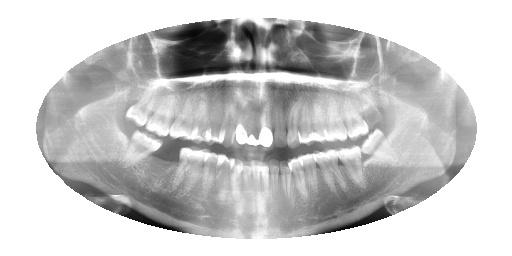i10healthy: (226, 155, 244, 222)
i11healthy: (211, 151, 234, 211)
i12healthy: (198, 147, 221, 207)
i13healthy: (171, 143, 209, 209)
i14loss: (151, 137, 183, 191)
i15healthy: (117, 125, 167, 181)
i16loss: (110, 116, 138, 155)
i1healthy: (356, 124, 399, 169)
i2healthy: (334, 142, 370, 192)
i3healthy: (310, 143, 348, 198)
i4healthy: (297, 150, 321, 202)
i5healthy: (286, 151, 311, 205)
i6healthy: (275, 153, 295, 208)
i7healthy: (268, 153, 281, 209)
i8healthy: (253, 152, 274, 213)
i9healthy: (239, 155, 258, 220)
u10healthy: (233, 98, 249, 149)
u11healthy: (219, 91, 237, 151)
u12healthy: (204, 100, 228, 150)
u13healthy: (188, 89, 212, 146)
u14healthy: (166, 87, 196, 143)
u15healthy: (147, 87, 177, 141)
u16healthy: (124, 79, 156, 132)
u1loss: (354, 92, 384, 132)
u2healthy: (339, 94, 371, 145)
u3healthy: (324, 92, 348, 145)
u4healthy: (309, 98, 329, 149)
u5healthy: (295, 94, 317, 148)
u6healthy: (283, 94, 303, 151)
u7healthy: (270, 96, 289, 151)
u8healthy: (256, 98, 276, 151)
u9loss: (245, 107, 260, 153)
